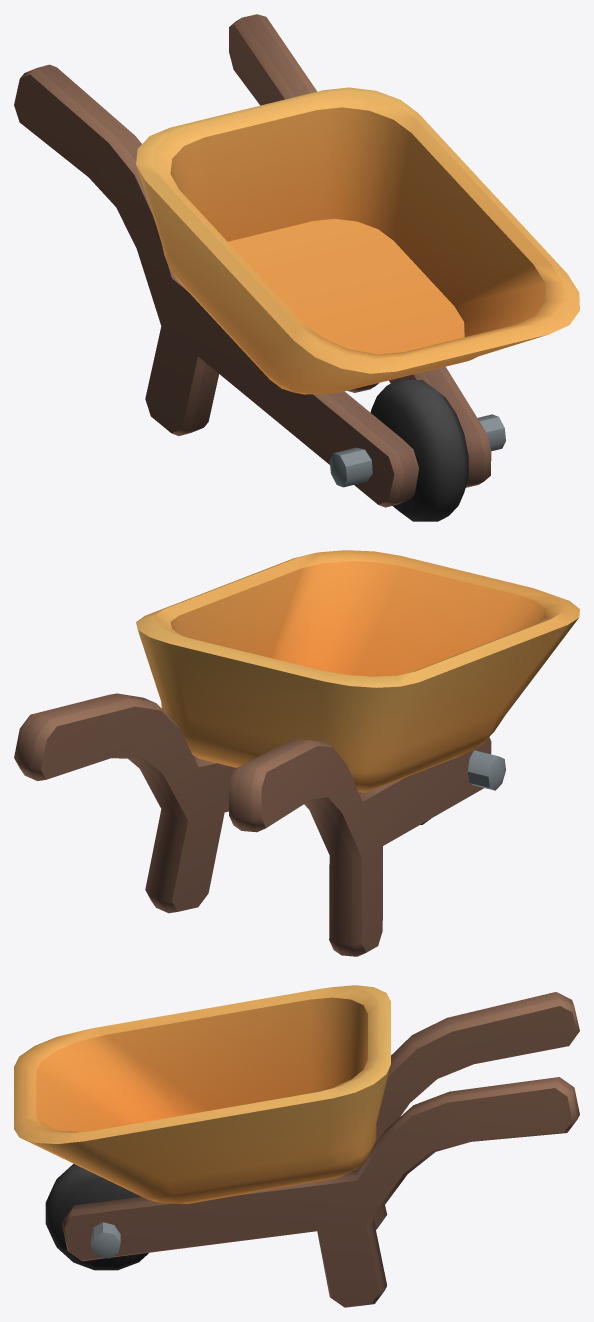
File: brouette_vide.glb
3 renders of one model, top to bottom at view 1: azimuth 30°, elevation 25°; view 2: azimuth 150°, elevation 25°; view 3: azimuth 270°, elevation 25°, orthographic. The views are drawn at different scales.
Visible parts, largest first — view 1: wheelbarrow_empty; view 2: wheelbarrow_empty; view 3: wheelbarrow_empty.
Boxes of the visible parts, x1,y1,x2,y2 form: wheelbarrow_empty: (14, 14, 579, 521); wheelbarrow_empty: (14, 550, 579, 956); wheelbarrow_empty: (14, 985, 579, 1307).
Size of the model in its own units: 1.04 by 1.04 by 2.23.
Materials: 1 (1 with a texture image).
